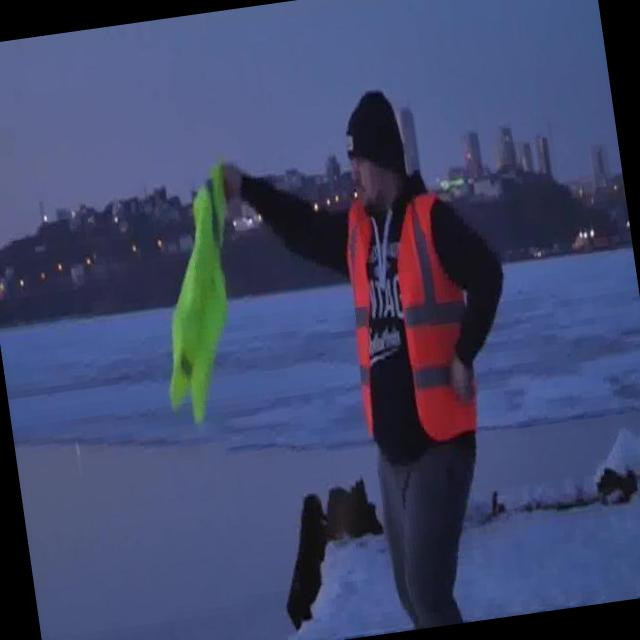safety_vest: (332, 182, 487, 453)
